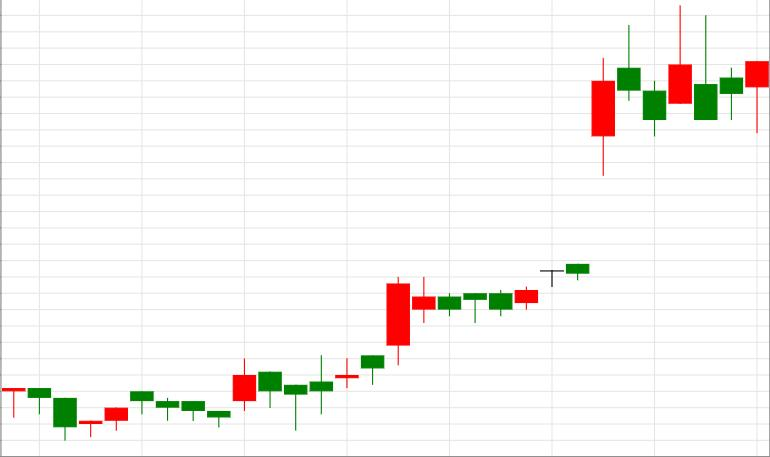shooting_star_fall: (387, 27, 641, 365)
